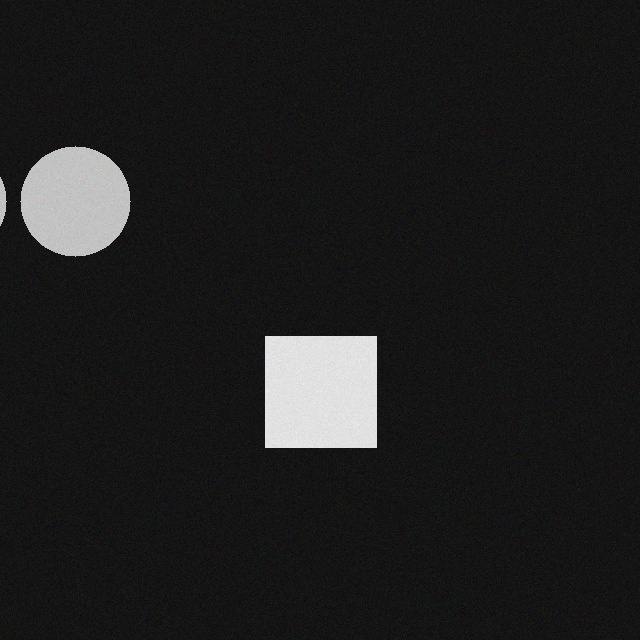circle: (7, 146, 117, 256)
square: (252, 336, 363, 447)
